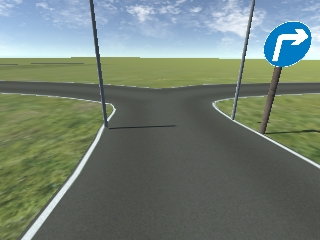right: (264, 20, 311, 67)
